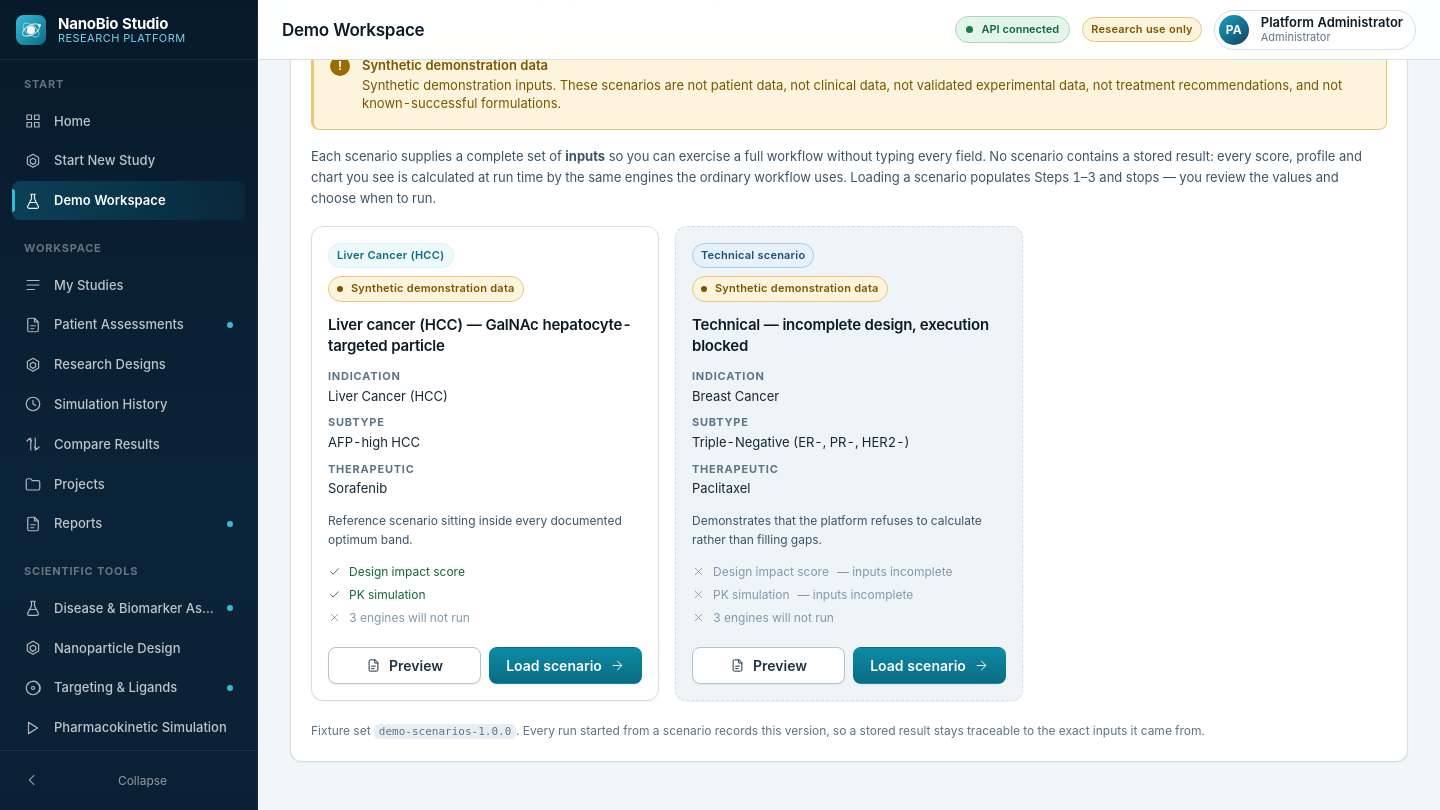
Test: scenario preview › marks the deliberately absent inputs on the blocked scenario
(page scrolled)
Expected: the element with test id "scenario-cards" is shown, [311,226,1023,701]
Click the button "Preview" below "Paclitaxel": (768, 666) [692,647,845,684]
(page scrolled)
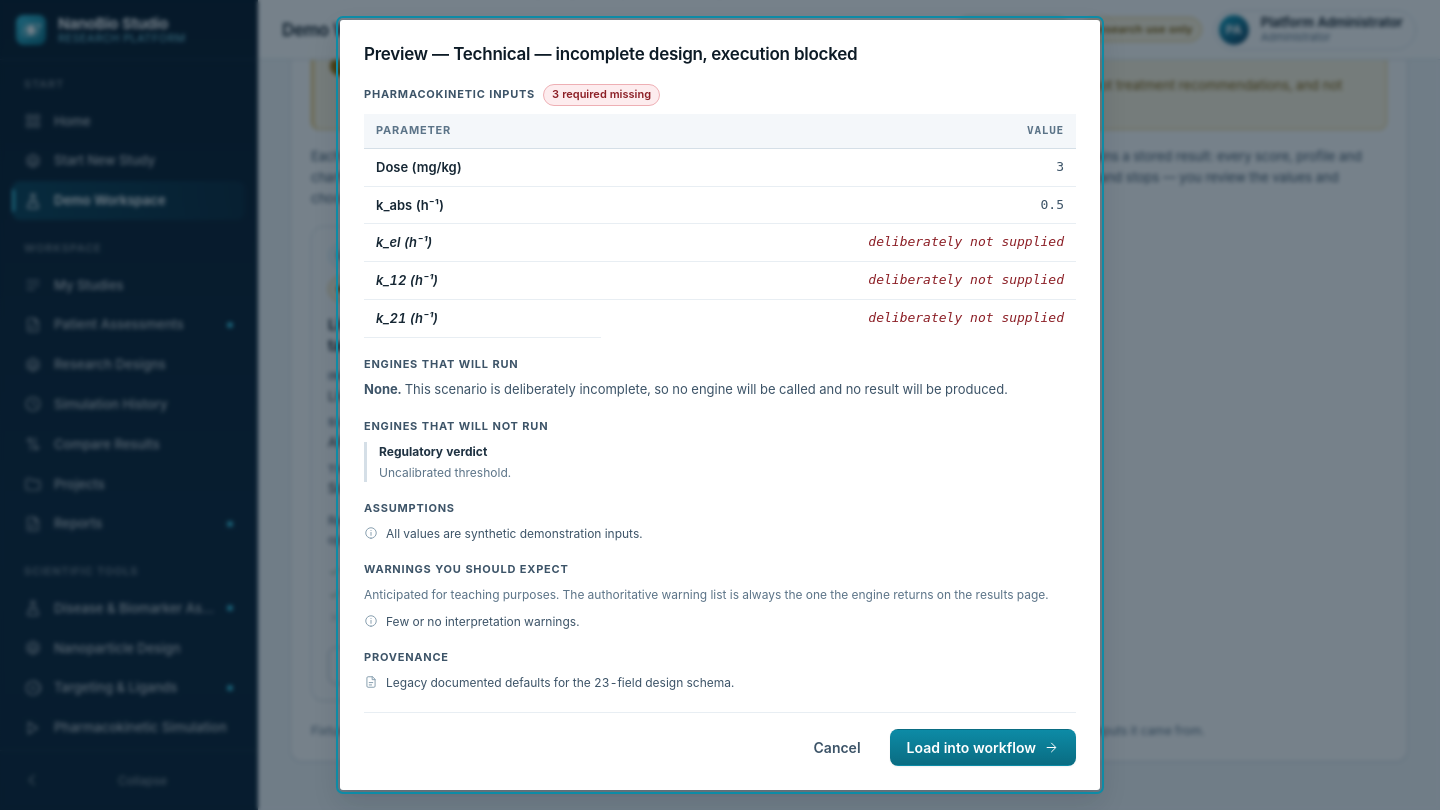
Expected: the element with test id "no-engines" shows "no engine will be called", [401,382,1008,398]
